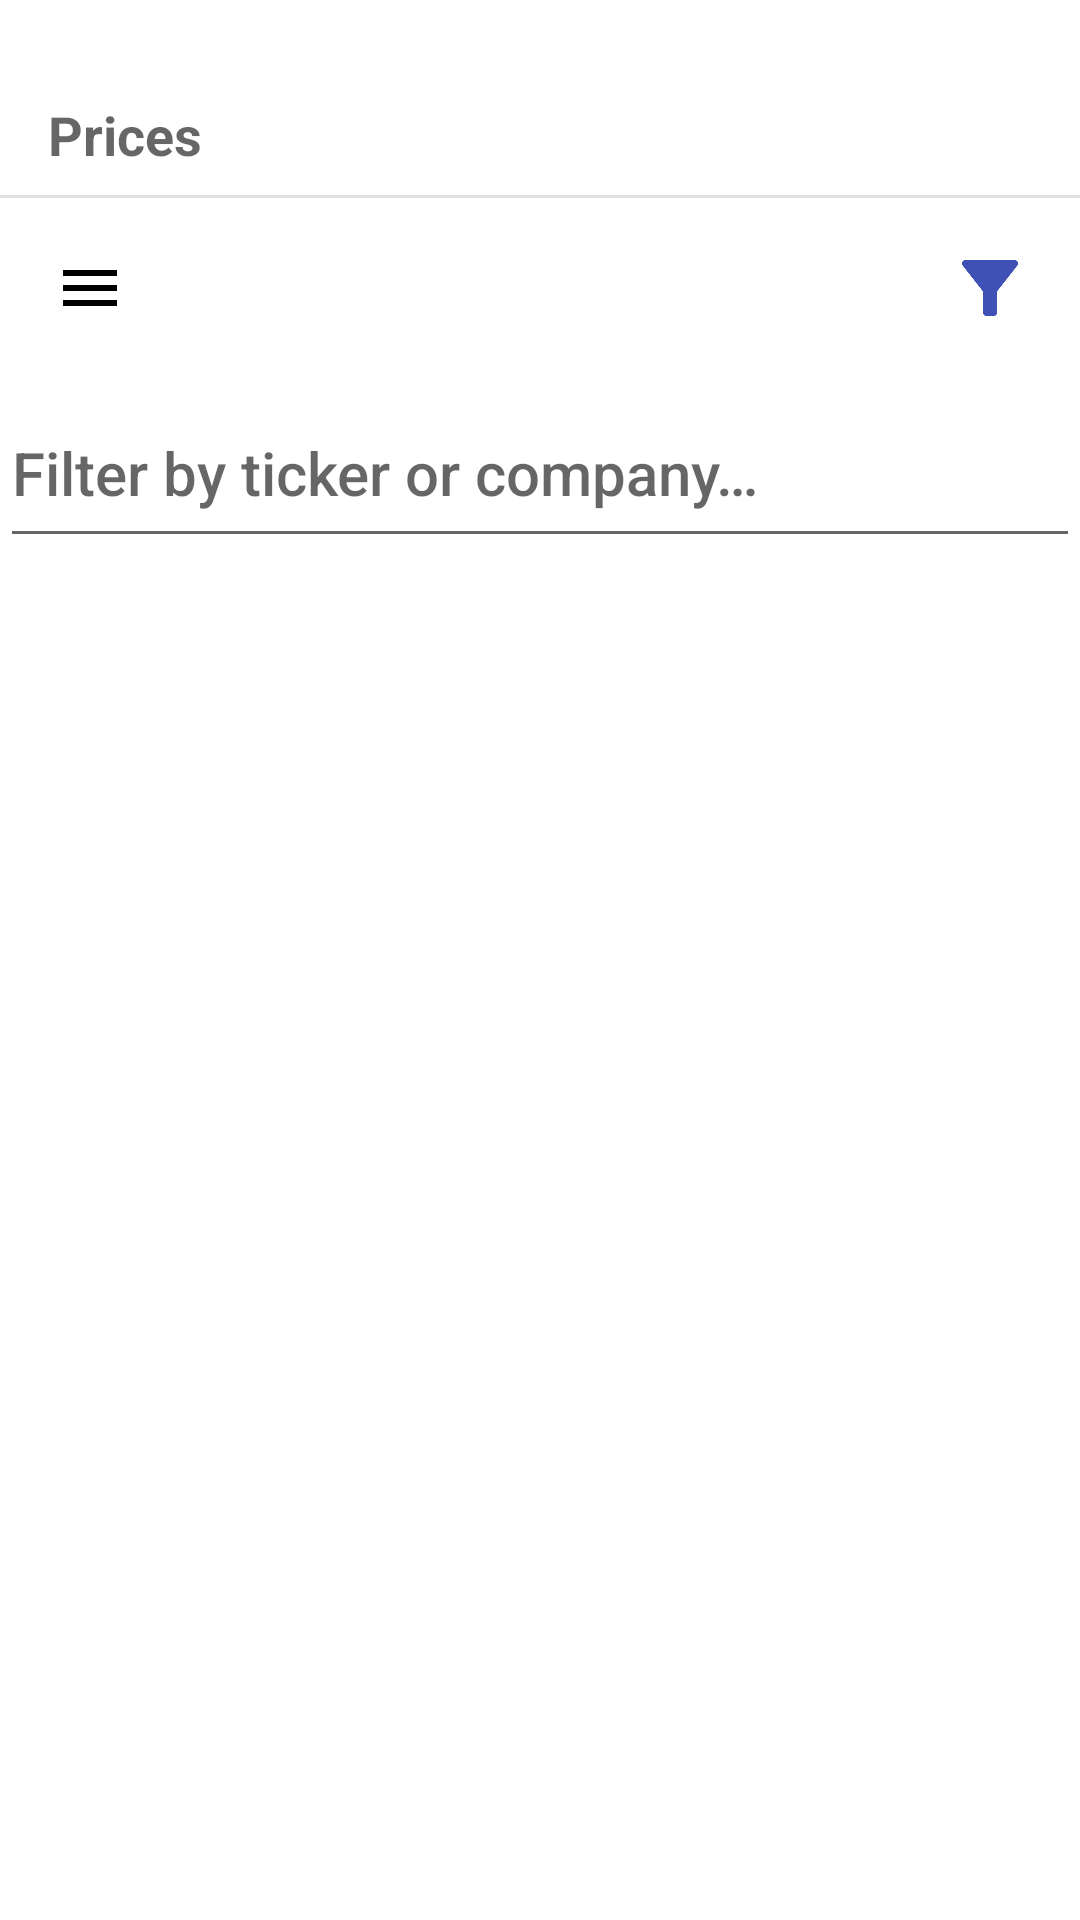

Where icons sit on this 1080px×1920px app screen, as detection(x1, y1, x2, y2):
Filter by target holdings: detection(962, 260, 1018, 316)
Navigation Menu: detection(63, 270, 117, 306)
